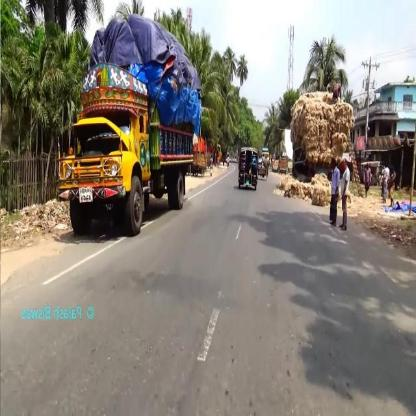truck: (54, 63, 196, 238)
